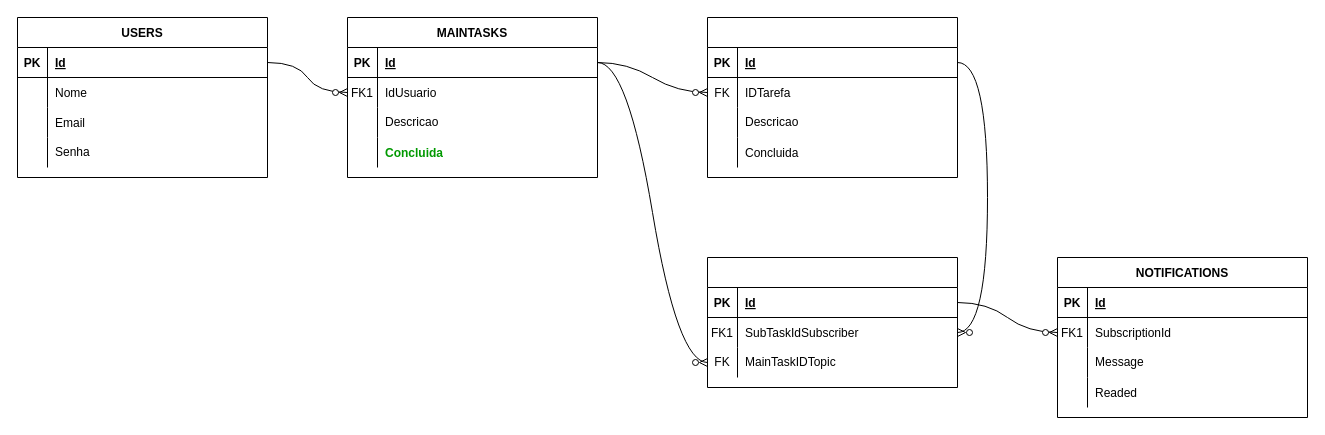
The diagram is 1325 pixels wide and 435 high, and some of its shapes have lost their labels. The shapes that lost their labels are listed below. From the top down, each one's box as (x1, y1, x2, y2) in pixels, then its label:
(706, 16, 958, 178): SUBTASKS
(706, 256, 958, 388): SUBSCRIPTIONS
